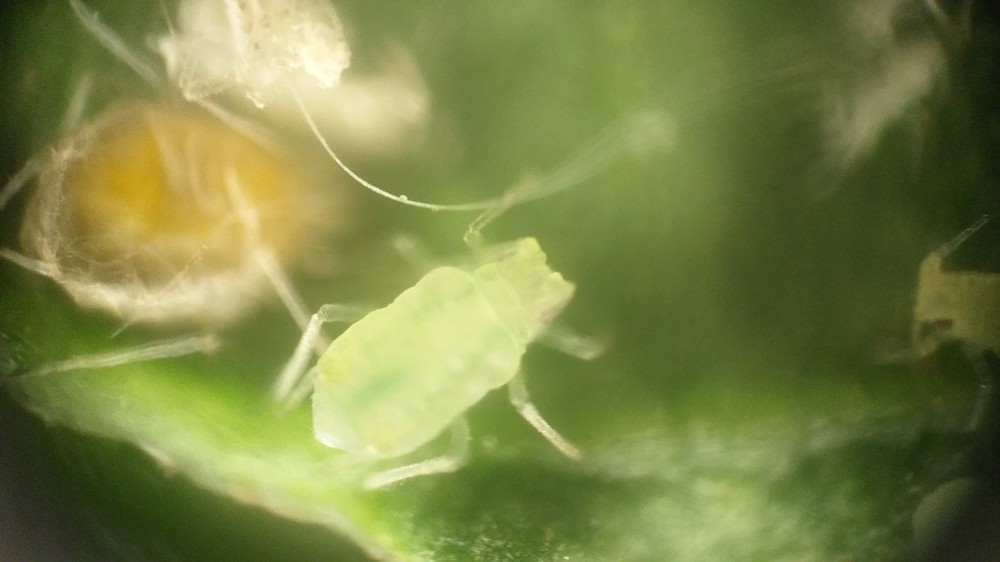Pulgon: (4, 82, 424, 402), (271, 181, 644, 515)
